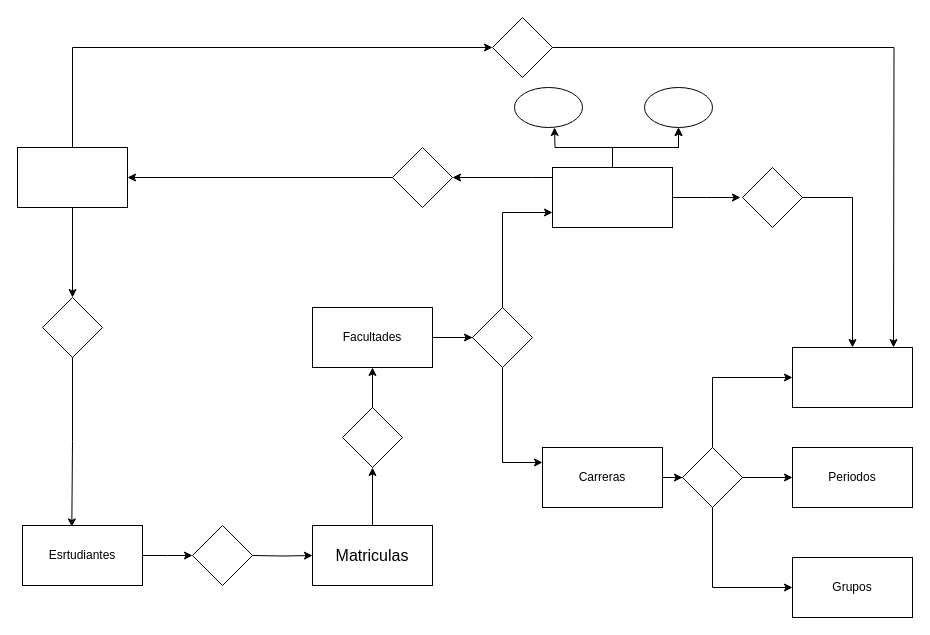
Image size: 930x635. Some labels were removed from this diagram. The shapes that lost their labels are listed below. From the top down, each one's centre as x and y in pixels, then its label:
point (72, 177): Profesores
point (612, 197): Departamentos
point (852, 377): Asignaturas
